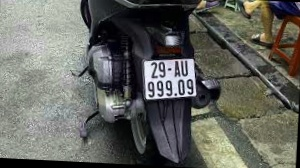Bien-so: (150, 56, 208, 100)
